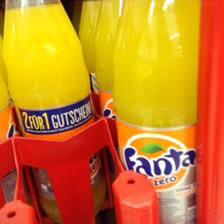Soda: (1, 0, 105, 220), (109, 0, 201, 224)
